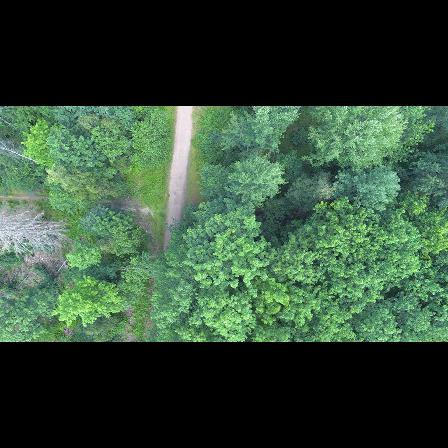Dead: (0, 211, 73, 257), (0, 137, 49, 170)
